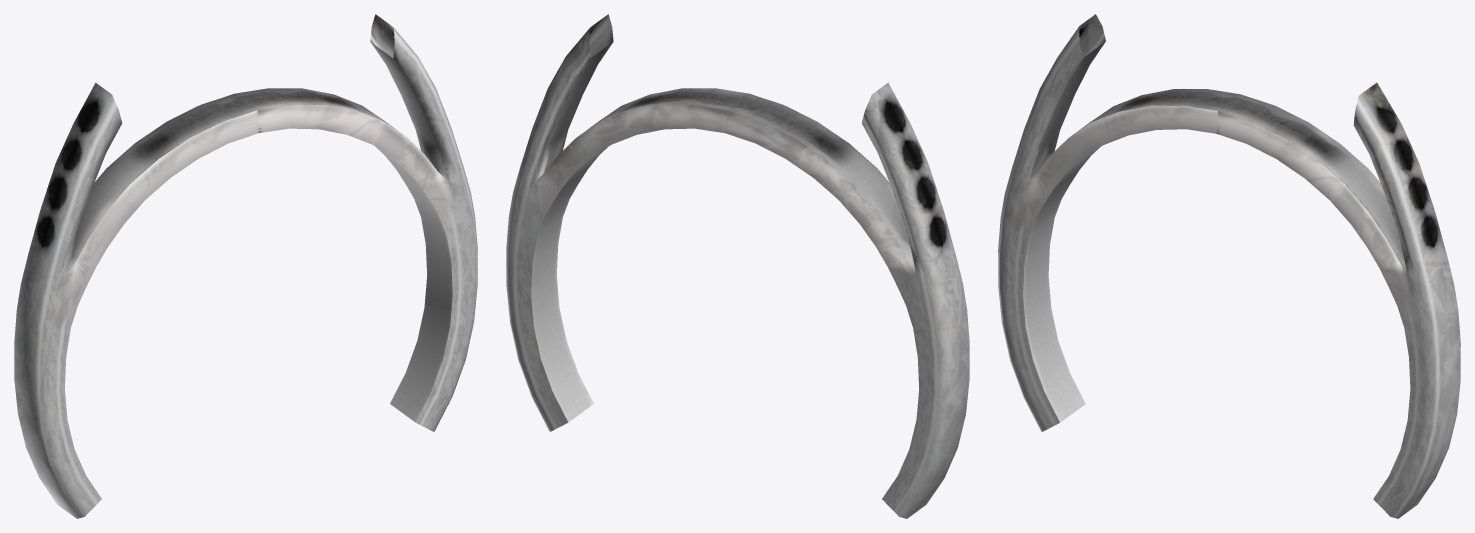
The model's file is zalesRing_base_cut.obj.
The picture shows the model from 3 angles, left to right: view 1: azimuth 30°, elevation 25°; view 2: azimuth 150°, elevation 25°; view 3: azimuth 330°, elevation 25°; orthographic projection.
Visible parts, largest first — view 1: zalesRing_base:Ring zalesRing_base:pPipe1 zalesRing_base:polySur; view 2: zalesRing_base:Ring zalesRing_base:pPipe1 zalesRing_base:polySur; view 3: zalesRing_base:Ring zalesRing_base:pPipe1 zalesRing_base:polySur.
Part boxes in pixels (<box>): zalesRing_base:Ring zalesRing_base:pPipe1 zalesRing_base:polySur: <box>14,14,477,518</box>; zalesRing_base:Ring zalesRing_base:pPipe1 zalesRing_base:polySur: <box>506,14,969,518</box>; zalesRing_base:Ring zalesRing_base:pPipe1 zalesRing_base:polySur: <box>998,14,1460,518</box>.
Size of the model in its own units: 6.73 by 6 by 0.6867.
Materials: 1 (1 with a texture image).
